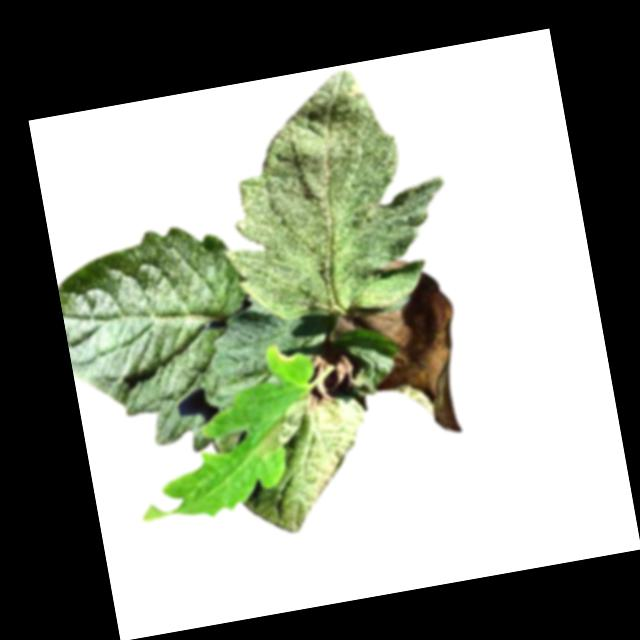Late_blight: (320, 265, 475, 454), (250, 395, 317, 459), (301, 352, 342, 411), (378, 257, 412, 275)
healthy: (200, 55, 463, 332), (51, 216, 270, 469)
